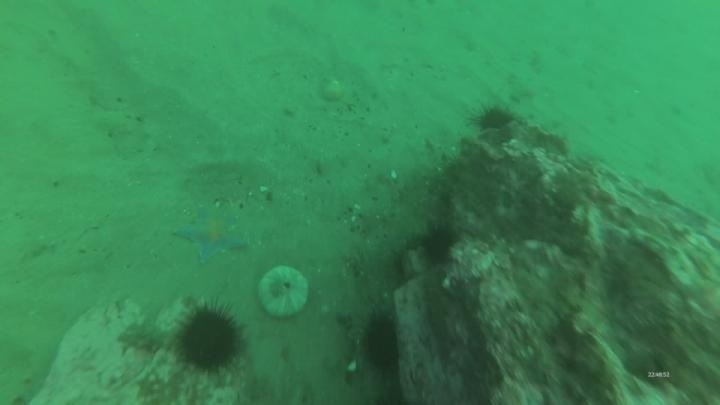echinus: (172, 300, 248, 377), (358, 309, 403, 375), (417, 222, 460, 267), (470, 102, 517, 134)
holothurian: (116, 318, 174, 357)
starfish: (171, 205, 250, 265)
